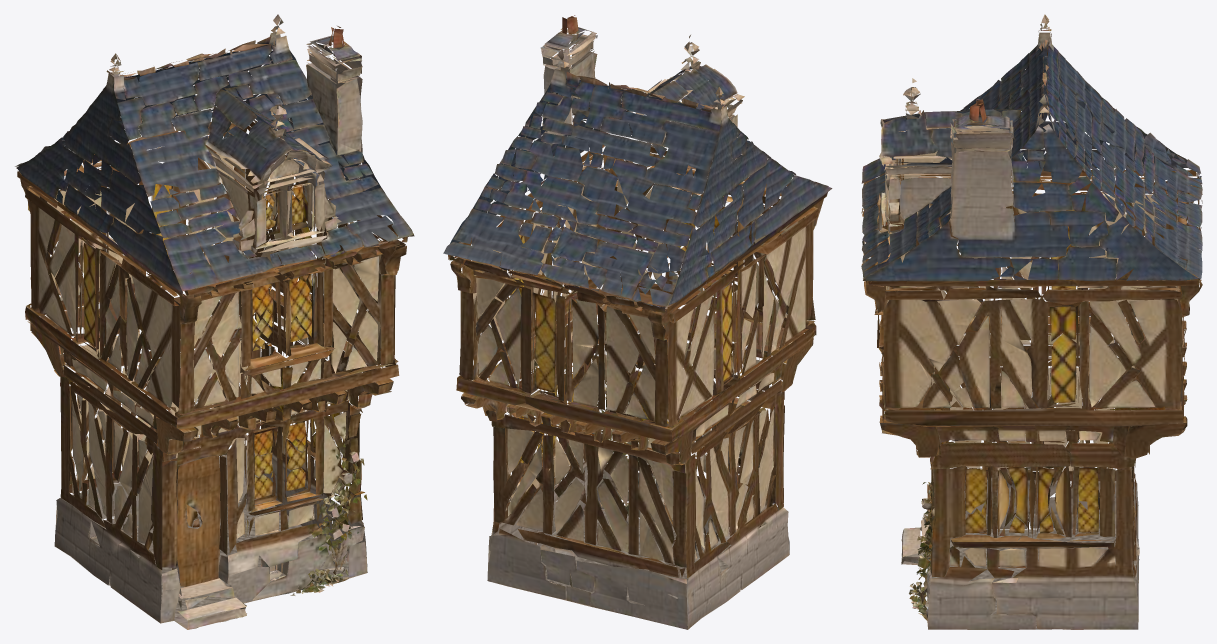
The model's file is maison1_loin.glb.
The picture shows the model from 3 angles, left to right: view 1: azimuth 30°, elevation 25°; view 2: azimuth 150°, elevation 25°; view 3: azimuth 270°, elevation 25°; orthographic projection. The views are drawn at different scales.
Parts seen in each view (by area): view 1: maison1_loin; view 2: maison1_loin; view 3: maison1_loin.
Boxes of the visible parts, x1,y1,x2,y2 form: maison1_loin: (15, 14, 414, 629); maison1_loin: (443, 15, 832, 629); maison1_loin: (861, 14, 1202, 629).
Bounding box in the file's own units: 7.59 × 16.42 × 9.64.
Materials: 1 (1 with a texture image).
